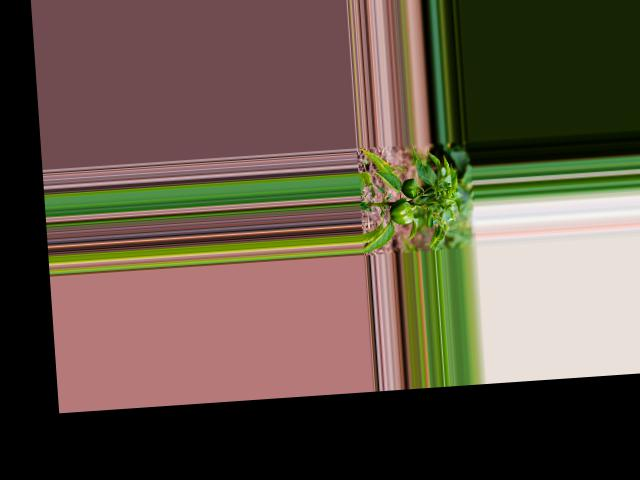bell_pepper: (399, 176, 420, 199)
